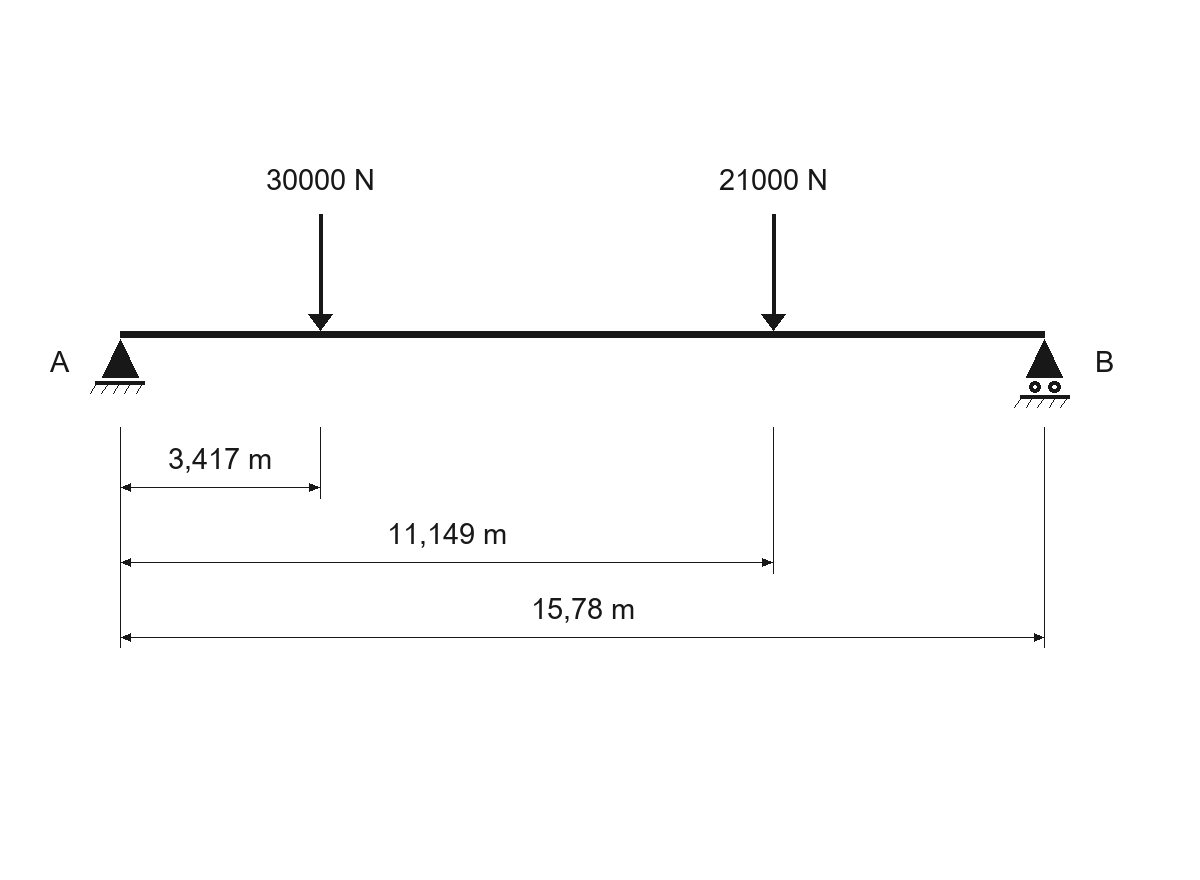pin_support: (90, 339, 145, 394)
point_load: (308, 214, 333, 331), (761, 214, 786, 331)
roller_support: (1014, 339, 1070, 408)
